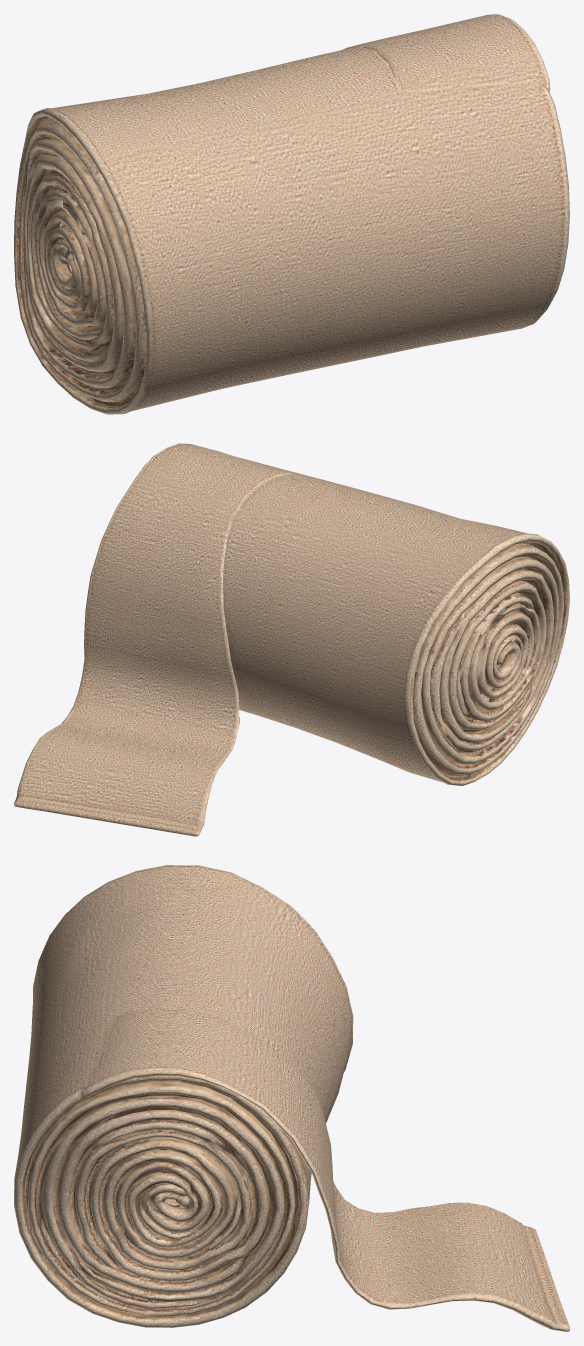
The model's file is tripo_convert_92e152a1-30c0-4b41-b52b-d8b323f003e8.glb.
3 views of the same model, one above another, from view 1: azimuth 30°, elevation 25°; view 2: azimuth 150°, elevation 25°; view 3: azimuth 270°, elevation 25° (orthographic). The views are drawn at different scales.
Parts seen in each view (by area): view 1: tripo_node_92e152a1-30c0-4b41-b52b-d8b323f003e8; view 2: tripo_node_92e152a1-30c0-4b41-b52b-d8b323f003e8; view 3: tripo_node_92e152a1-30c0-4b41-b52b-d8b323f003e8.
Part boxes in pixels (left/top/right/bottom): tripo_node_92e152a1-30c0-4b41-b52b-d8b323f003e8: left=14, top=14, right=569, bottom=414; tripo_node_92e152a1-30c0-4b41-b52b-d8b323f003e8: left=14, top=443, right=569, bottom=836; tripo_node_92e152a1-30c0-4b41-b52b-d8b323f003e8: left=14, top=865, right=569, bottom=1331.
Bounding box in the file's own units: 0.9224 × 0.5503 × 0.9995.
Materials: 1 (1 with a texture image).
